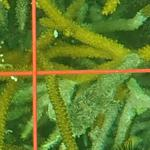alive: (3, 3, 148, 148)
